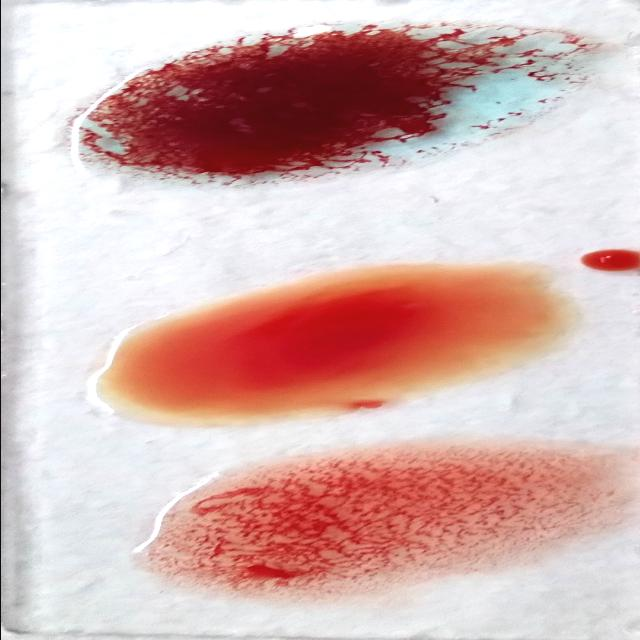A: (70, 18, 602, 185)
D: (131, 461, 617, 592)
